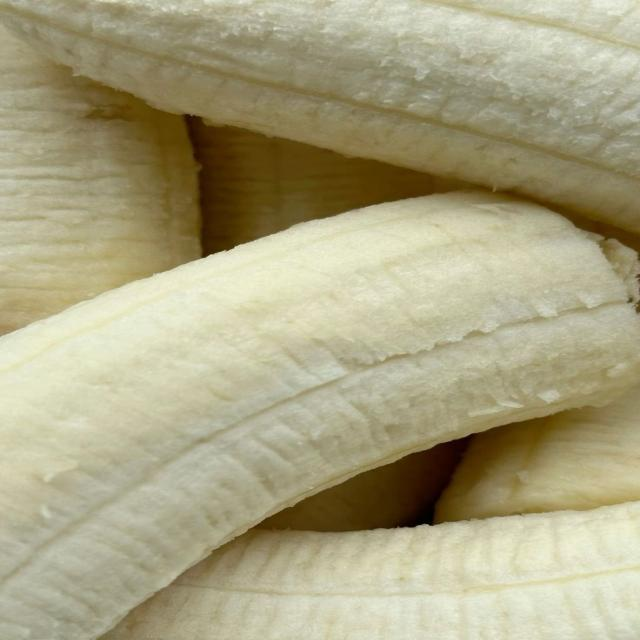banana: (0, 193, 639, 639), (0, 0, 639, 231), (104, 503, 639, 639), (0, 28, 200, 333), (191, 119, 459, 254), (436, 388, 639, 521), (259, 439, 466, 531)
